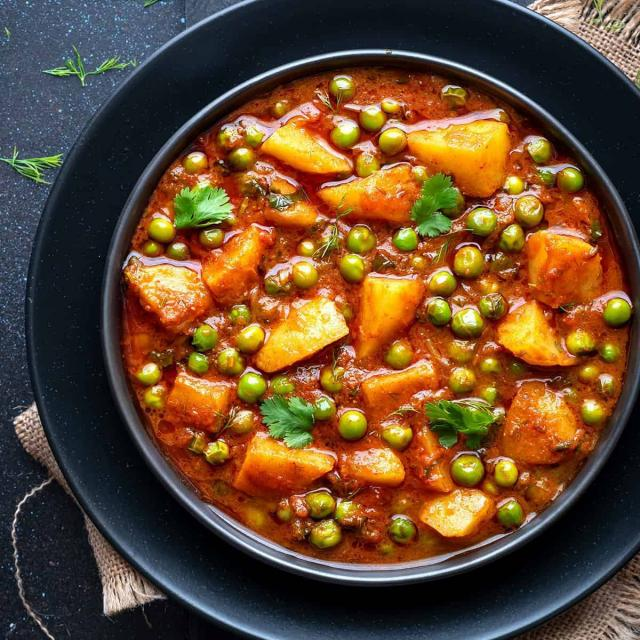Aloo Matar: (109, 72, 622, 571)
